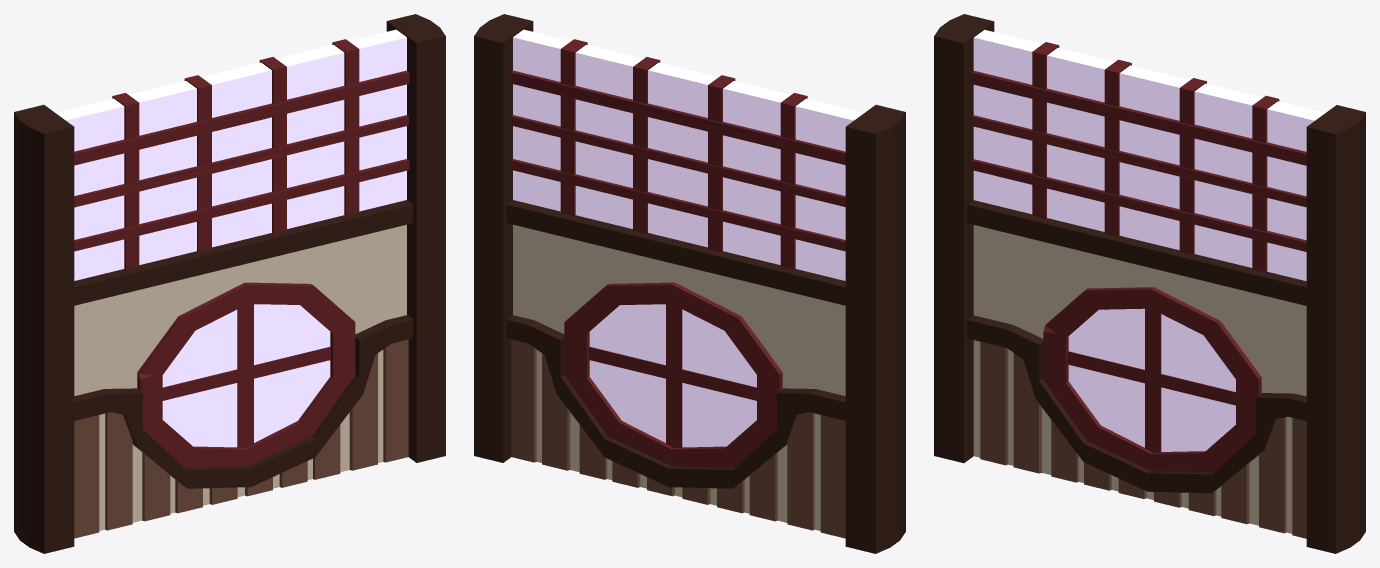
File: BuildingWall_3_1  Asia.fbx
3 views of the same model, side by side, from view 1: azimuth 30°, elevation 25°; view 2: azimuth 150°, elevation 25°; view 3: azimuth 330°, elevation 25° (orthographic).
Visible parts, largest first — view 1: BuildingWall_3_1; view 2: BuildingWall_3_1; view 3: BuildingWall_3_1.
Part boxes in pixels (x1,y1,x2,y2): BuildingWall_3_1: (14,14,445,553); BuildingWall_3_1: (474,14,905,553); BuildingWall_3_1: (934,14,1365,553).
Size of the model in its own units: 2 by 1.96 by 0.254.
